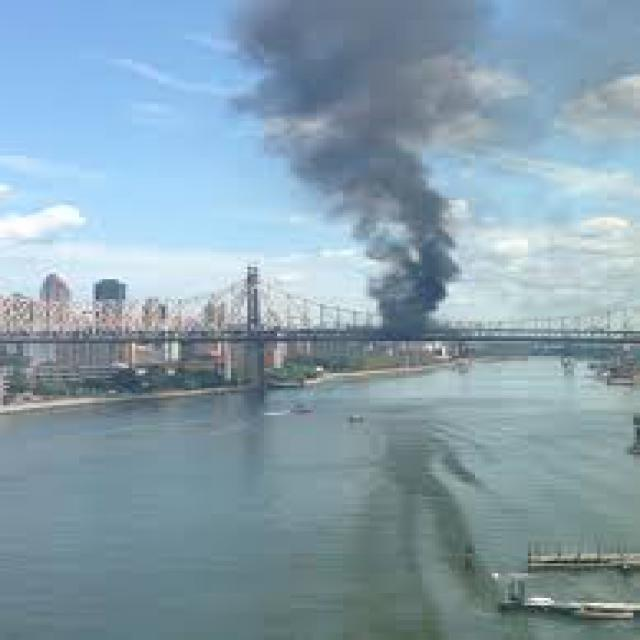Smoke: (236, 6, 506, 342)
